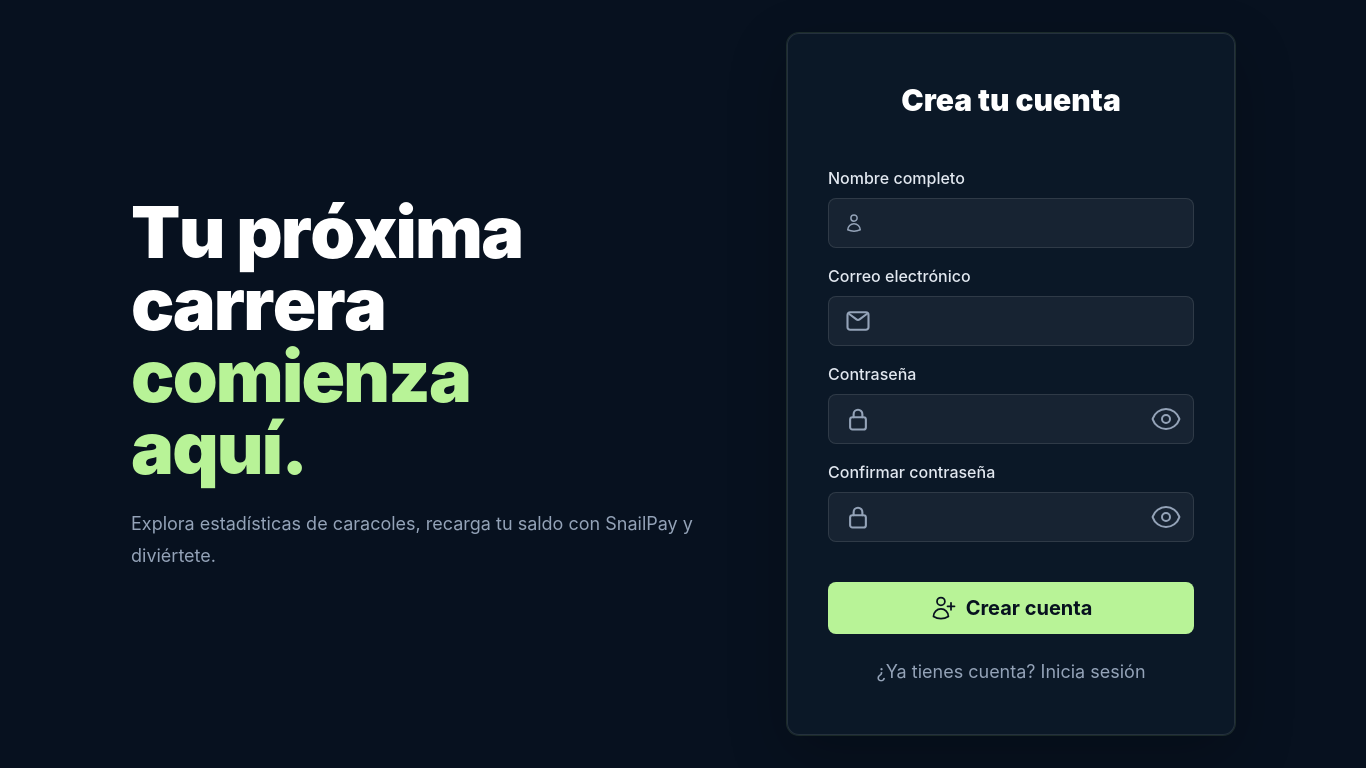
Test: RegisterPage › client-side validation › clears the inline error once the form becomes valid again
This screenshot has width=1366, height=768.
Step 1. Type "Ada Lovelace" into the field labelled "Nombre completo" → (1011, 223), box [828,198,1194,248]
Step 2. Type "ada@example.com" into the field labelled "Correo electrónico" → (1011, 321), box [828,296,1194,346]
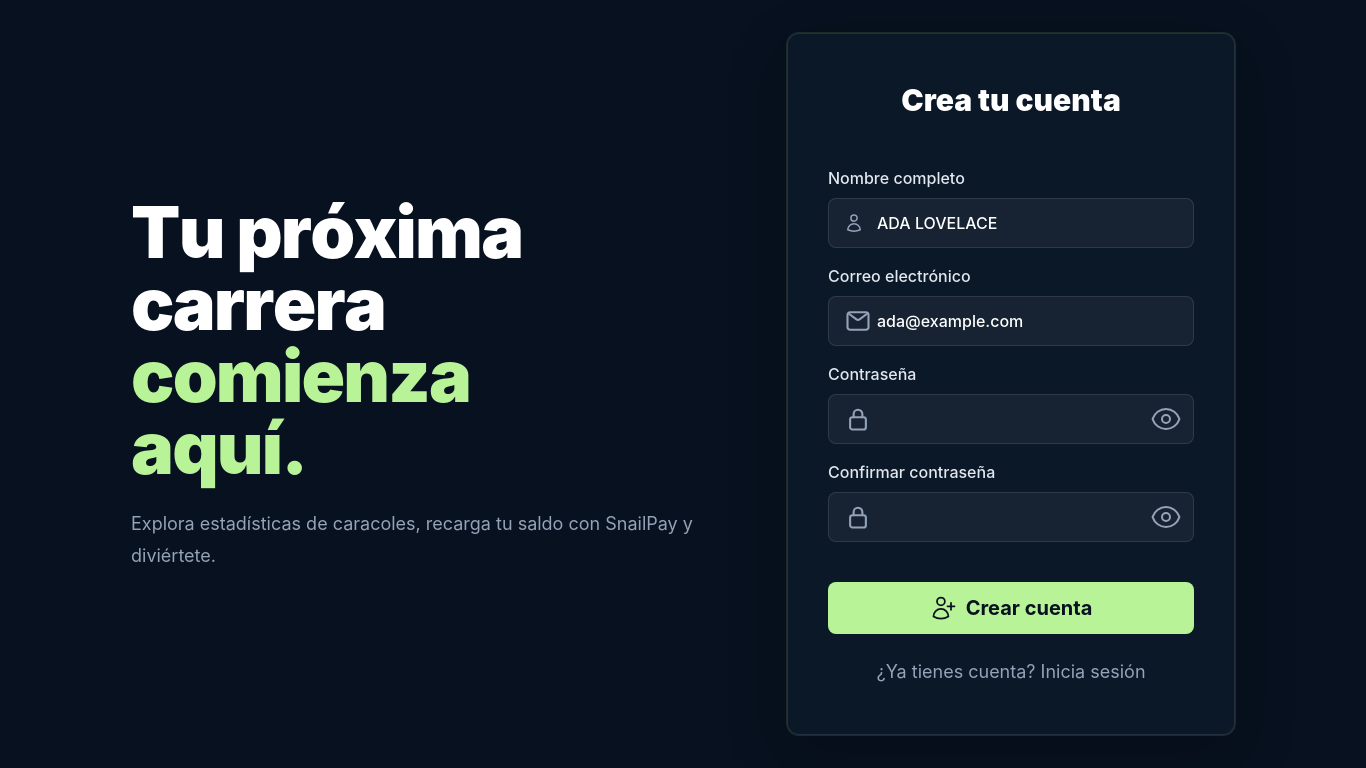
Step 3. Type "password123" into the password field labelled "Contraseña" → (1011, 419), box [828,394,1194,444]
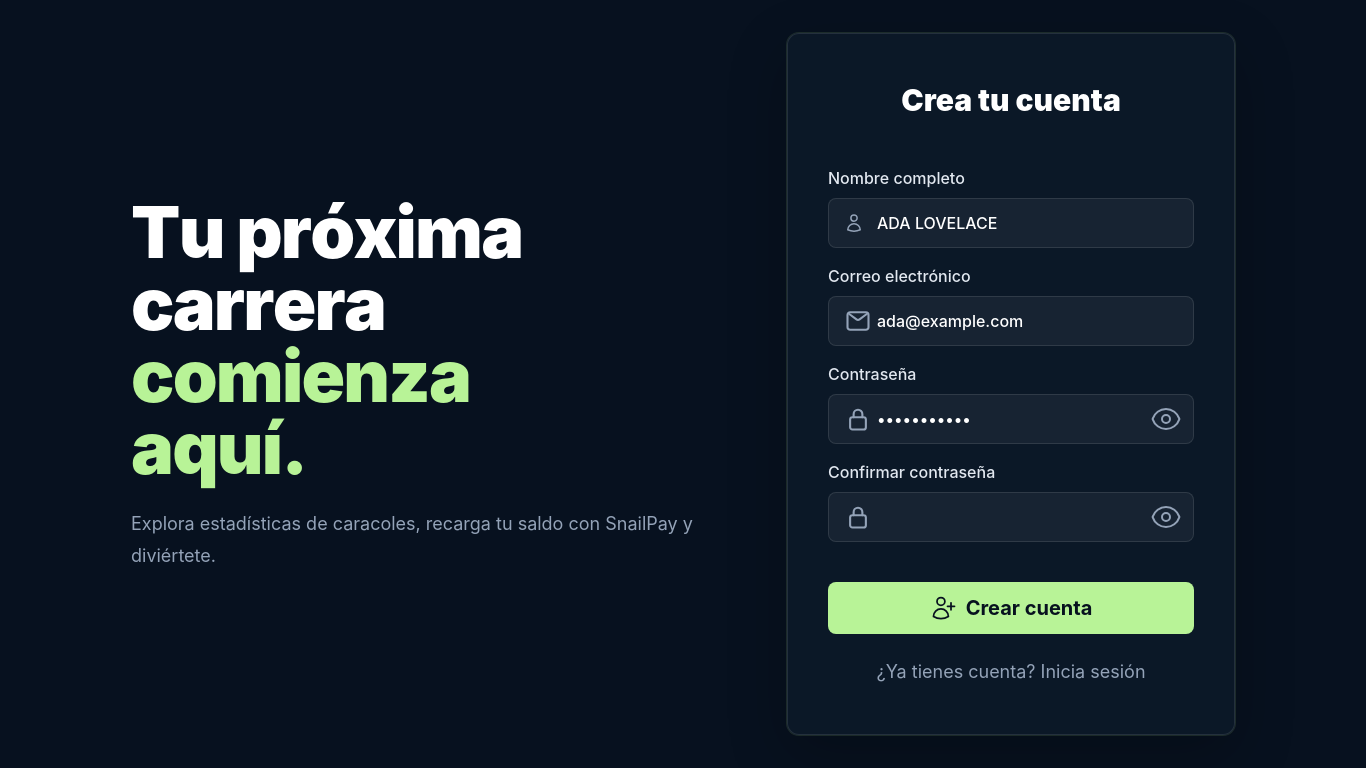
Step 4. Type "otra-contraseña" into the password field labelled "Confirmar contraseña" → (1011, 517), box [828,492,1194,542]
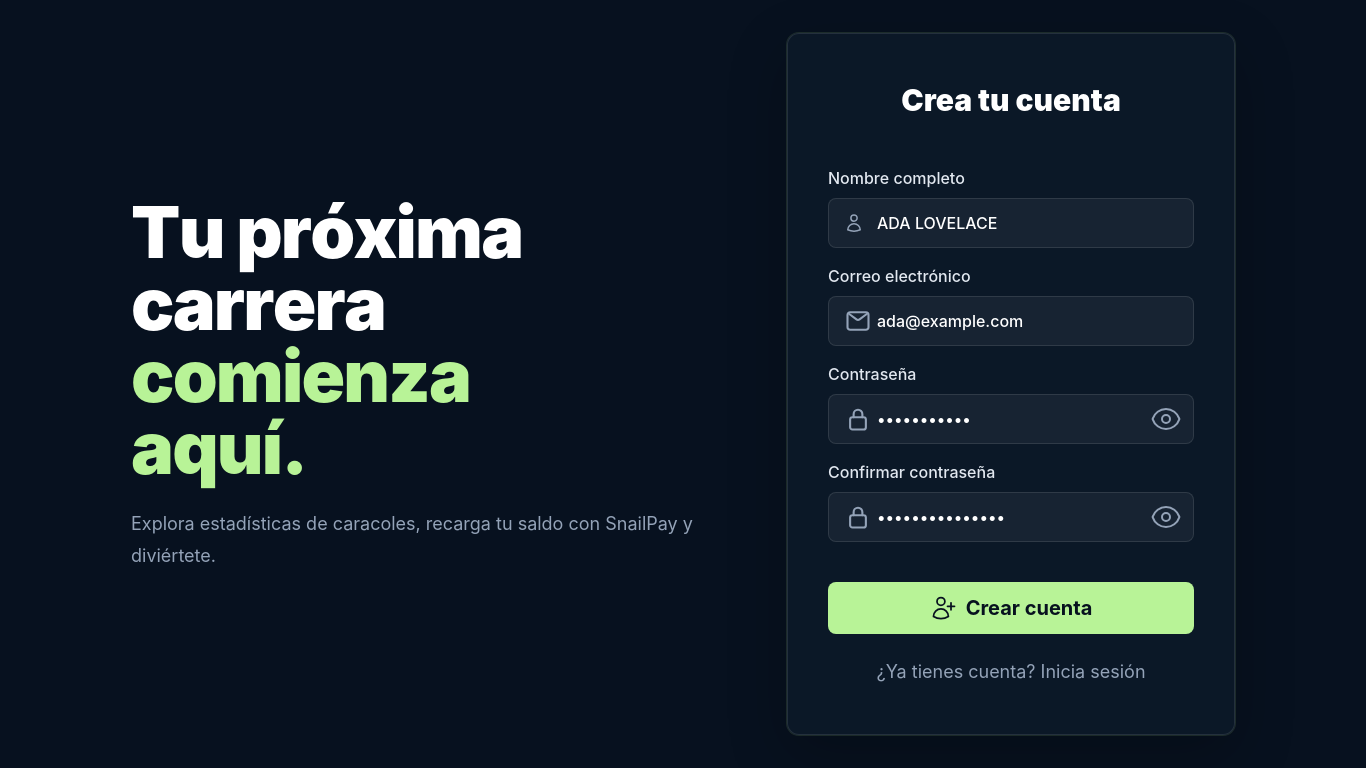
Step 5. Submit the form "Crear cuenta", box [828,166,1194,634]
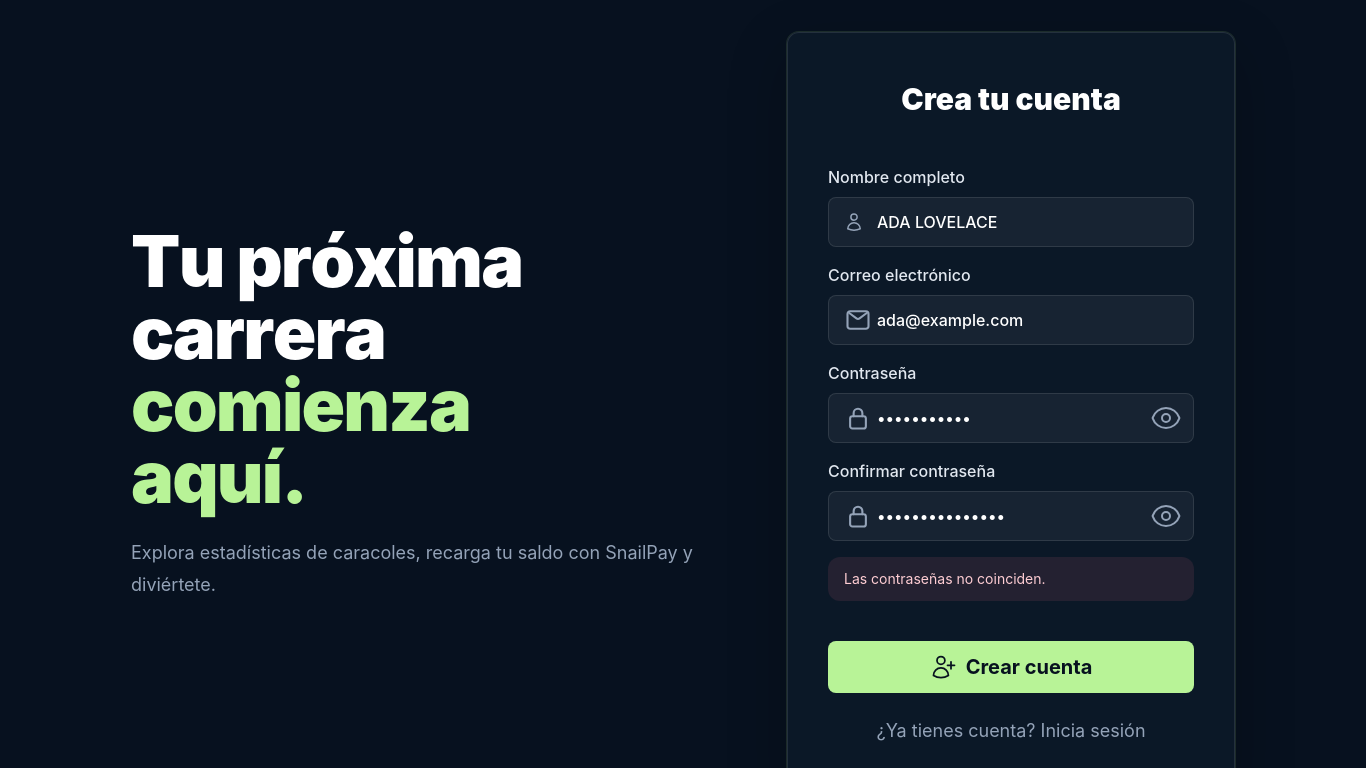
Expected: the text "Las contraseñas no coinciden." is shown, [828,557,1194,601]
Step 6. Type "password123" into the password field labelled "Confirmar contraseña" → (1011, 516), box [828,491,1194,541]
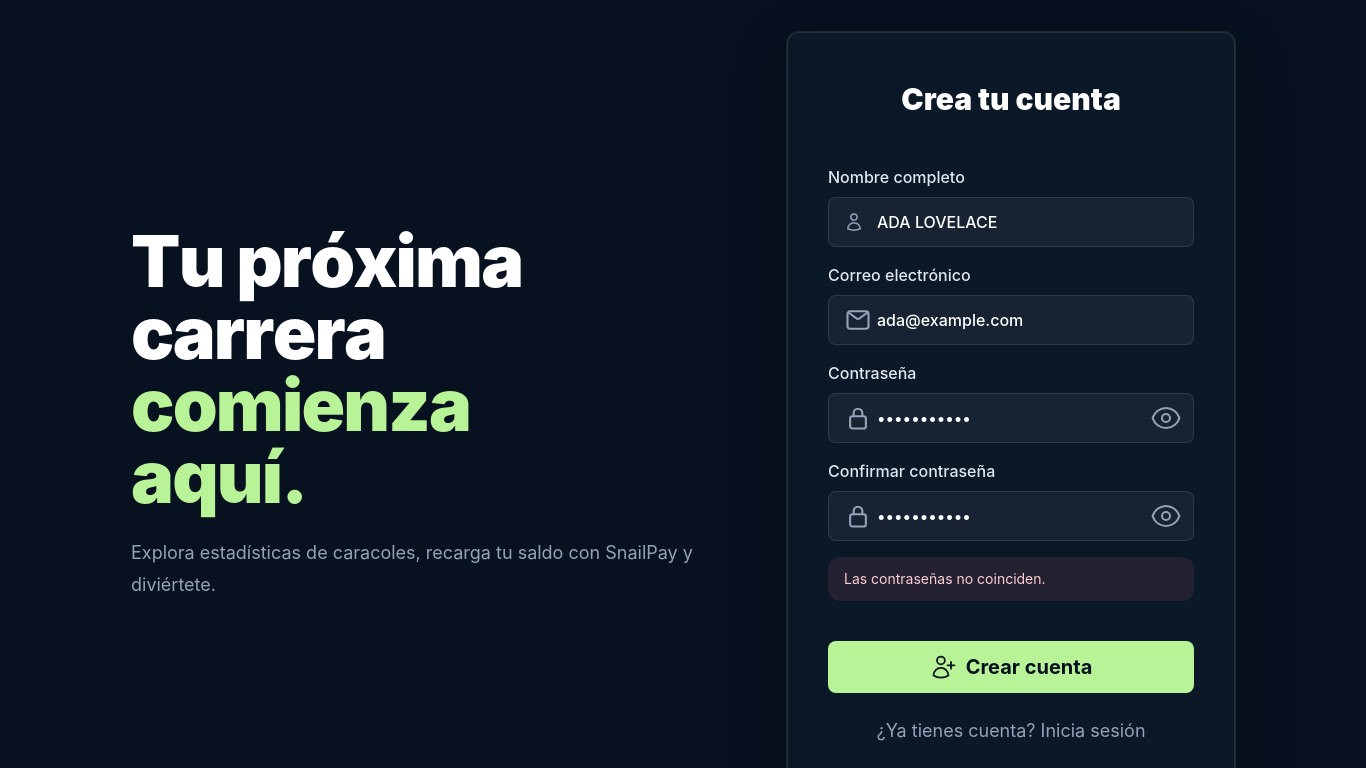
Step 7. Submit the form named "crear cuenta", box [828,165,1194,693]
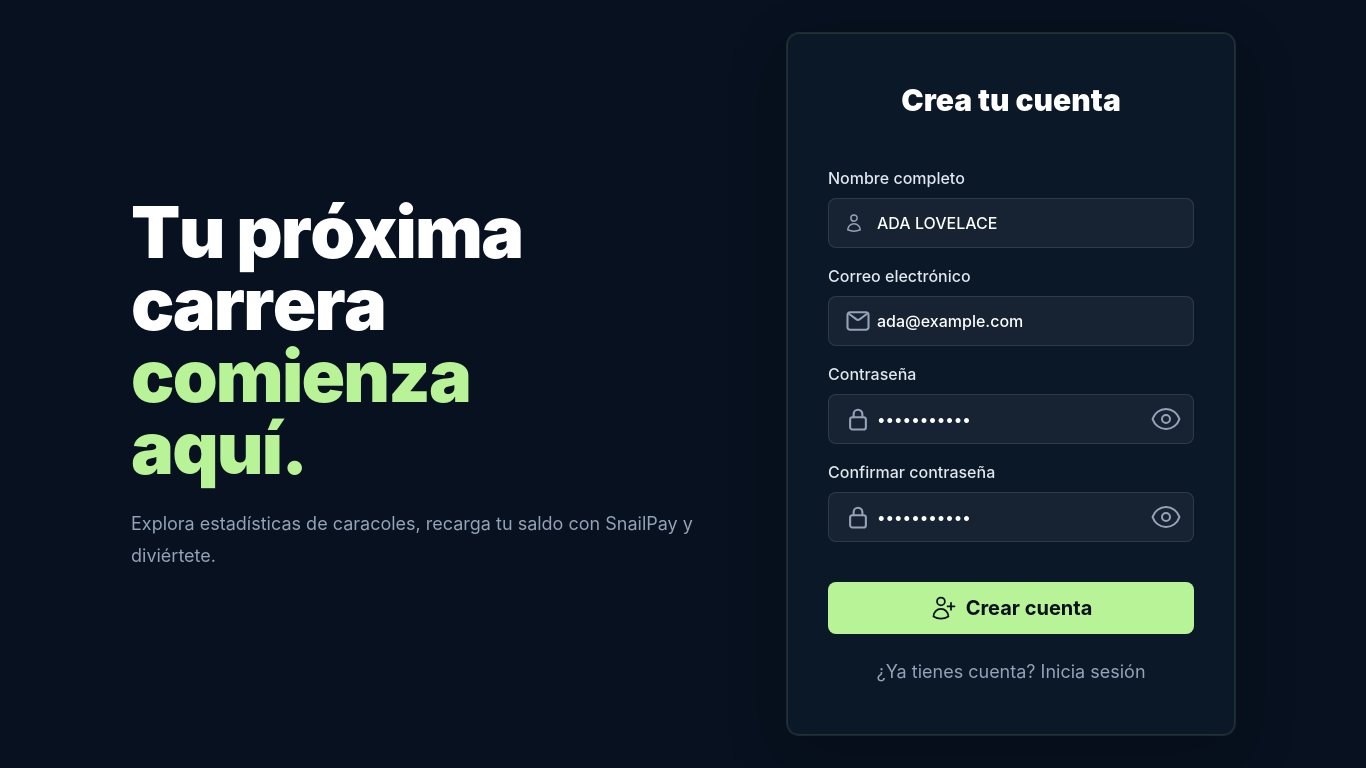
Expected: the text "Las contraseñas no coinciden." is gone
